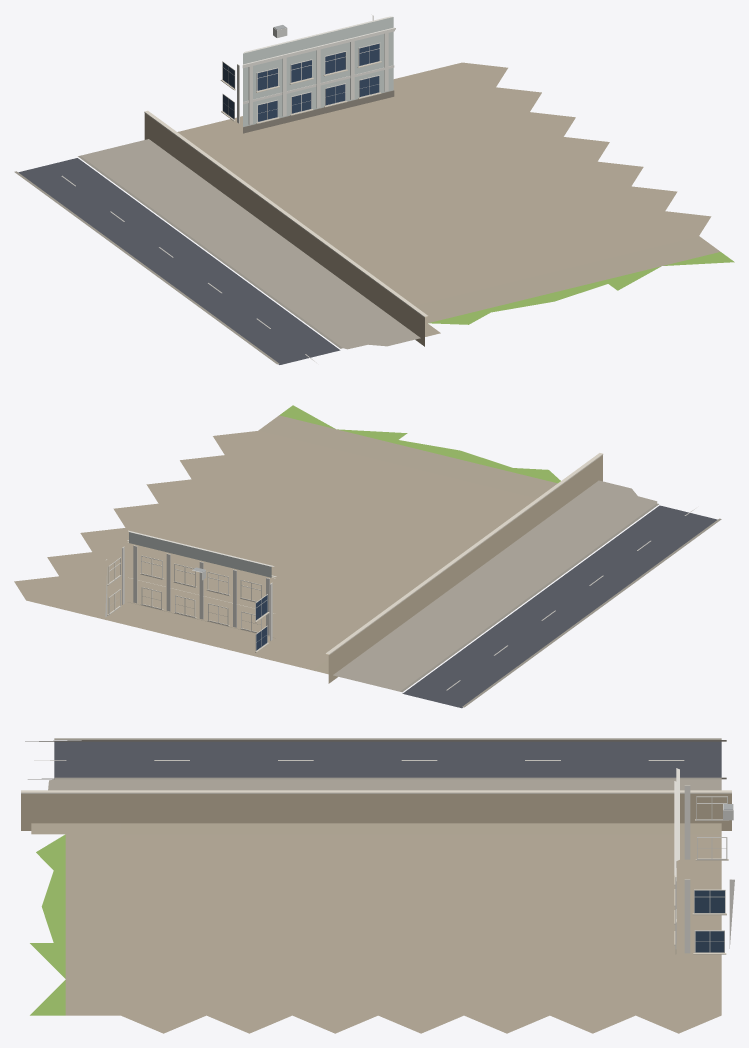
3 views of the same model, one above another, from view 1: azimuth 30°, elevation 25°; view 2: azimuth 150°, elevation 25°; view 3: azimuth 270°, elevation 25° (orthographic). The views are drawn at different scales.
Parts seen in each view (by area): view 1: estructura_terreno, estructura_arquitectura, estructura_cristal, estructura_cesped; view 2: estructura_terreno, estructura_arquitectura, estructura_cesped; view 3: estructura_terreno, estructura_arquitectura, estructura_cesped, estructura_cristal.
Part boxes in pixels (x1,y1,x2,y2): estructura_terreno: (14,62,720,364); estructura_arquitectura: (144,14,427,346); estructura_cristal: (223,43,379,121); estructura_cesped: (428,252,734,324); estructura_terreno: (14,415,721,708); estructura_arquitectura: (105,453,603,683); estructura_cesped: (279,405,560,483); estructura_terreno: (25,738,726,1033); estructura_arquitectura: (21,768,734,954); estructura_cesped: (30,834,65,1015); estructura_cristal: (694,890,724,952).
Size of the model in its own units: 50.9 by 8.87 by 52.5.
